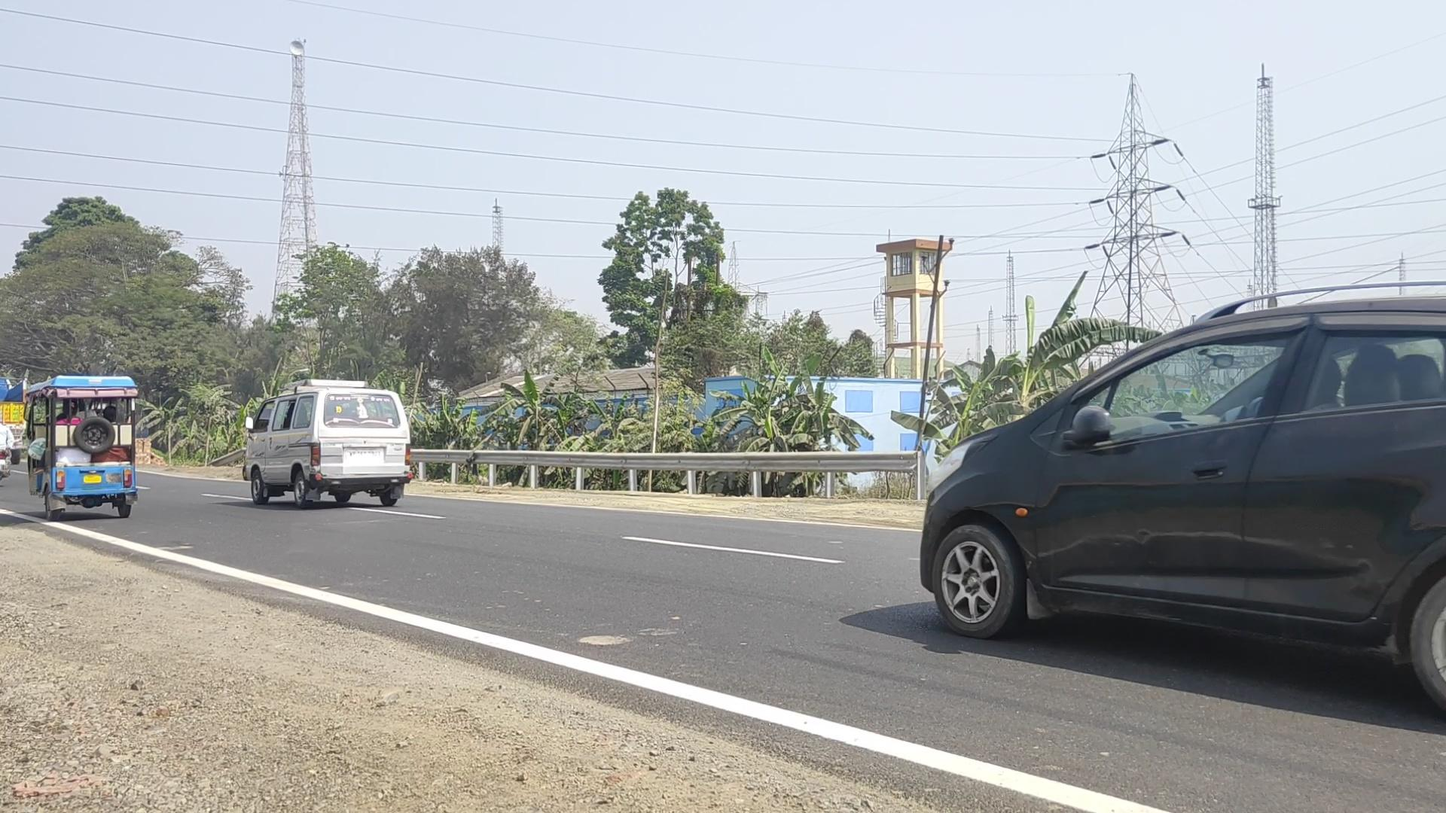Auto: (23, 375, 139, 522)
car: (919, 280, 1446, 722)
van: (242, 379, 413, 510)
